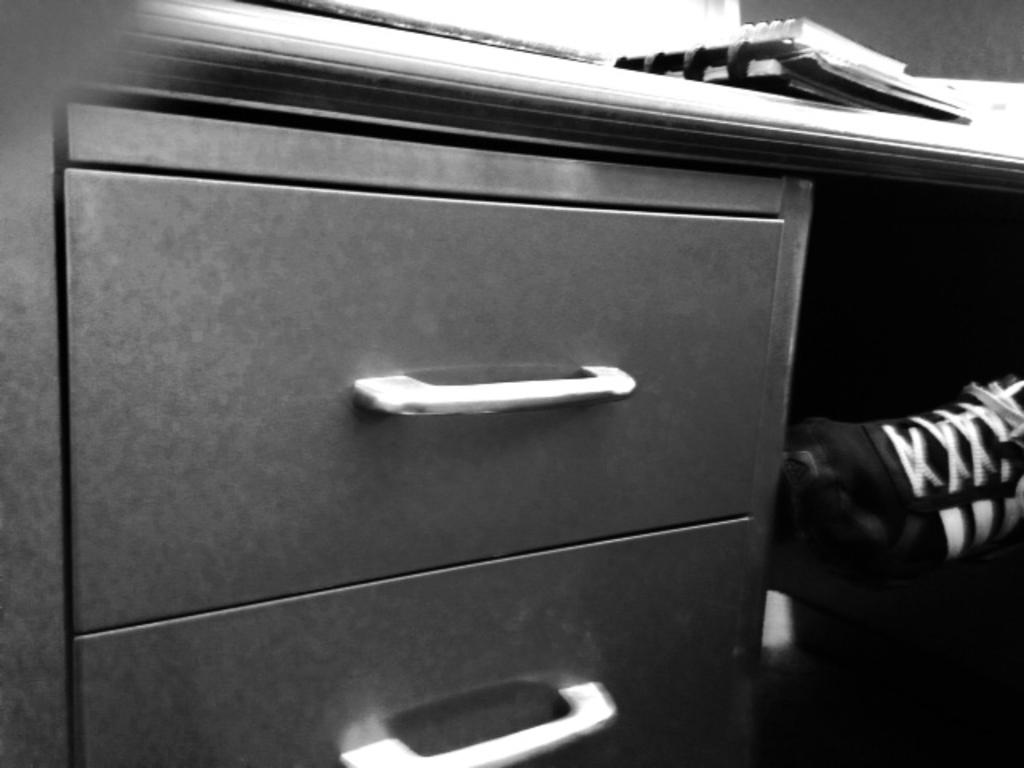Book: (613, 15, 972, 124)
